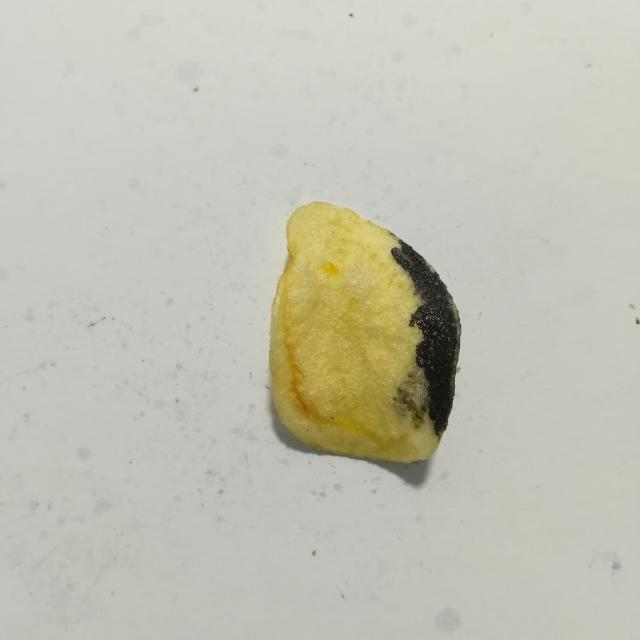chip: (269, 202, 460, 462)
damaged: (391, 240, 461, 437)
semi-damaged: (392, 353, 437, 439)
